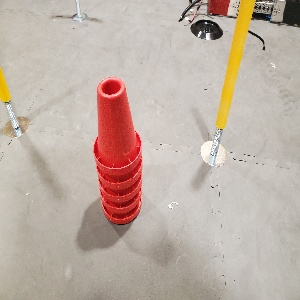Red_5: (93, 77, 142, 225)
